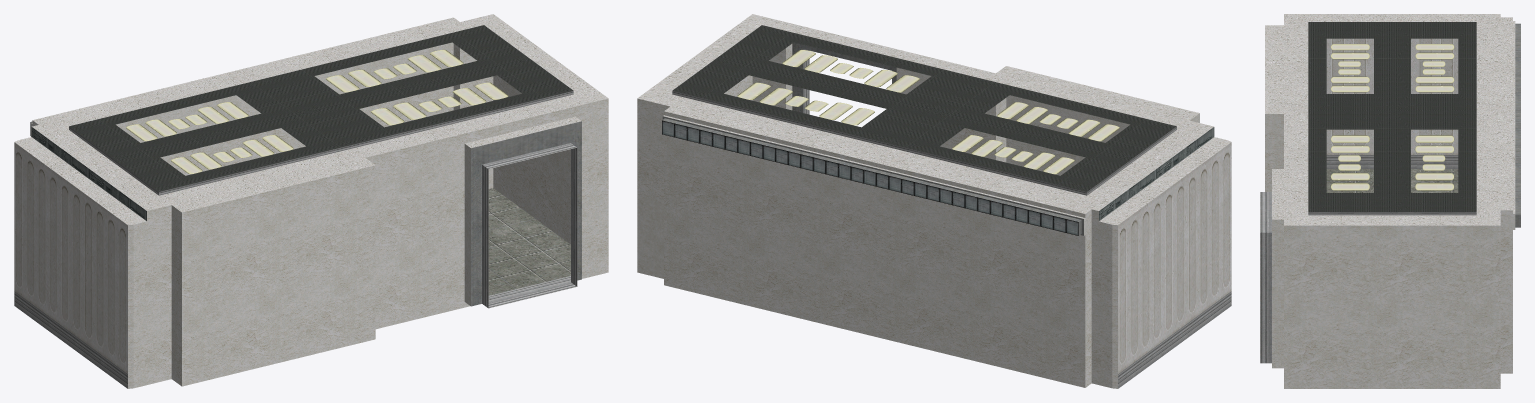
Rendered from ply_all_house_lg_s01_fp1_r13_room10_mesh_r13.fbx.
3 views of the same model, side by side, from view 1: azimuth 30°, elevation 25°; view 2: azimuth 150°, elevation 25°; view 3: azimuth 270°, elevation 25° (orthographic). The views are drawn at different scales.
Parts seen in each view (by area): view 1: mesh_node; view 2: mesh_node; view 3: mesh_node.
Boxes of the visible parts, bbox=[...] form: mesh_node: bbox=[14, 14, 608, 388]; mesh_node: bbox=[637, 14, 1231, 388]; mesh_node: bbox=[1260, 14, 1520, 388].
Size of the model in its own units: 10.82 by 3.83 by 5.42.
